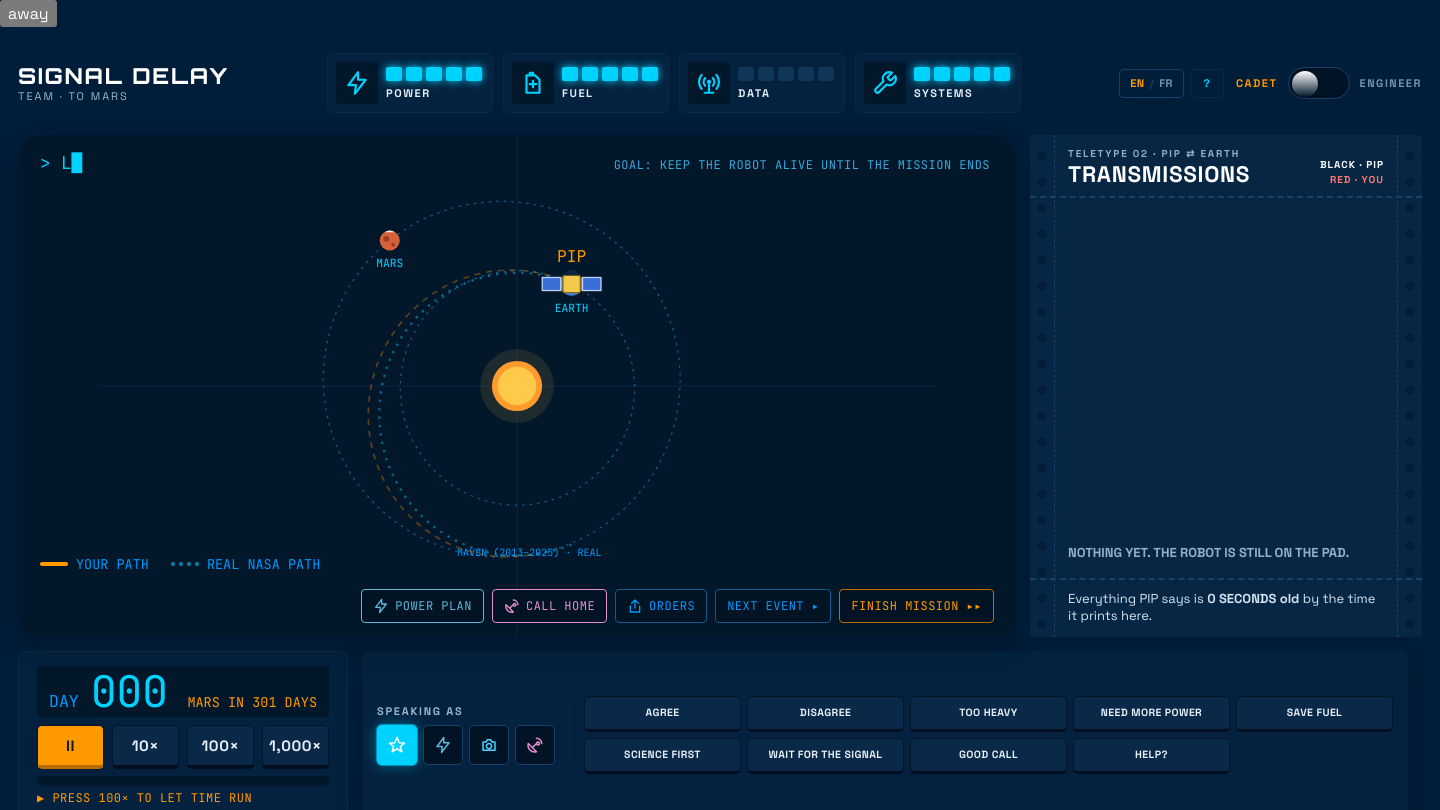
Scenario: Team Fly: orders and messages on the team log › the log replays to the flight on screen: the same orders, at the same times
Click the button "NEXT EVENT ▸" at (773, 606), box [715,589,831,623]
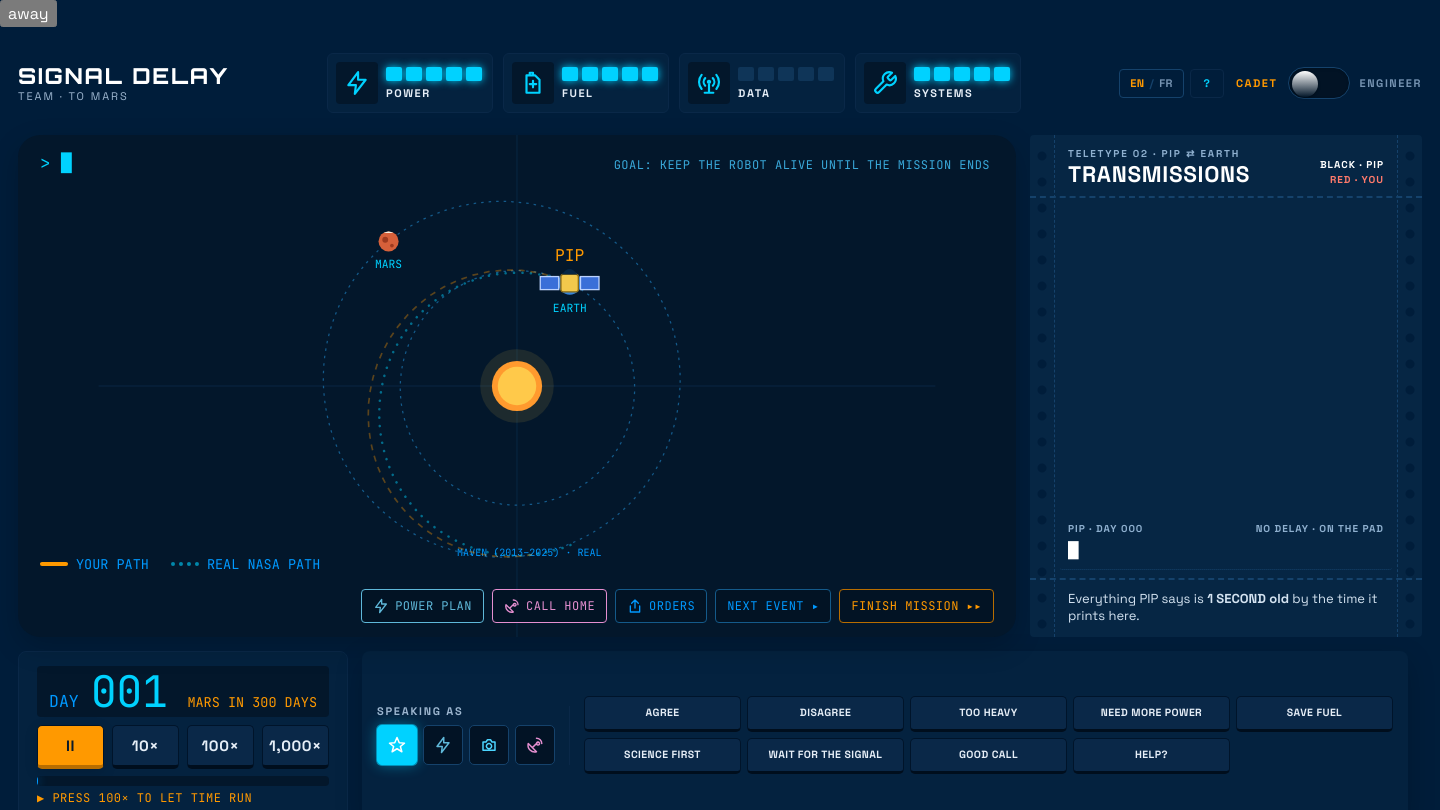
Click the button "NEXT EVENT ▸" at (773, 606), box [715,589,831,623]
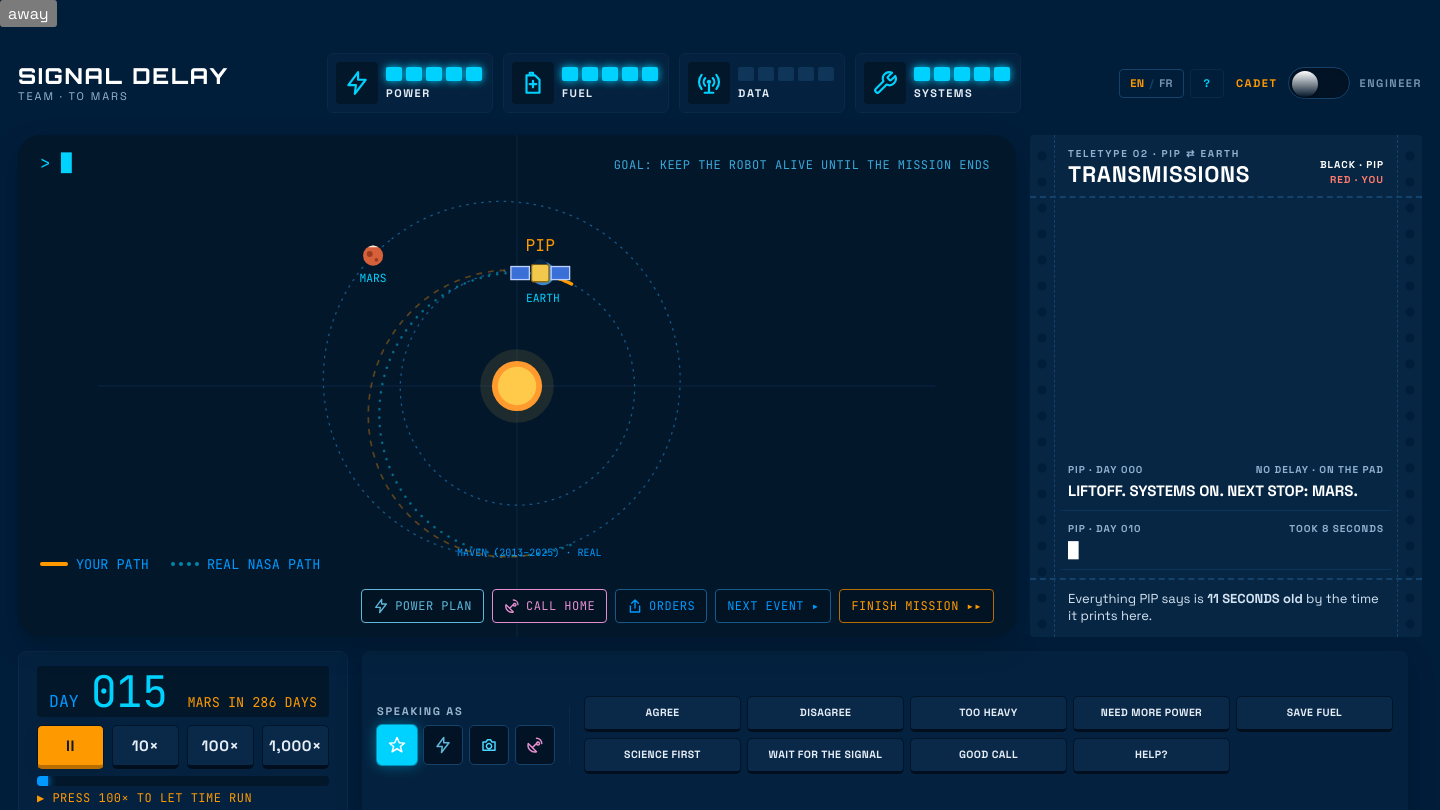
Click the button "NEXT EVENT ▸" at (773, 606), box [715,589,831,623]
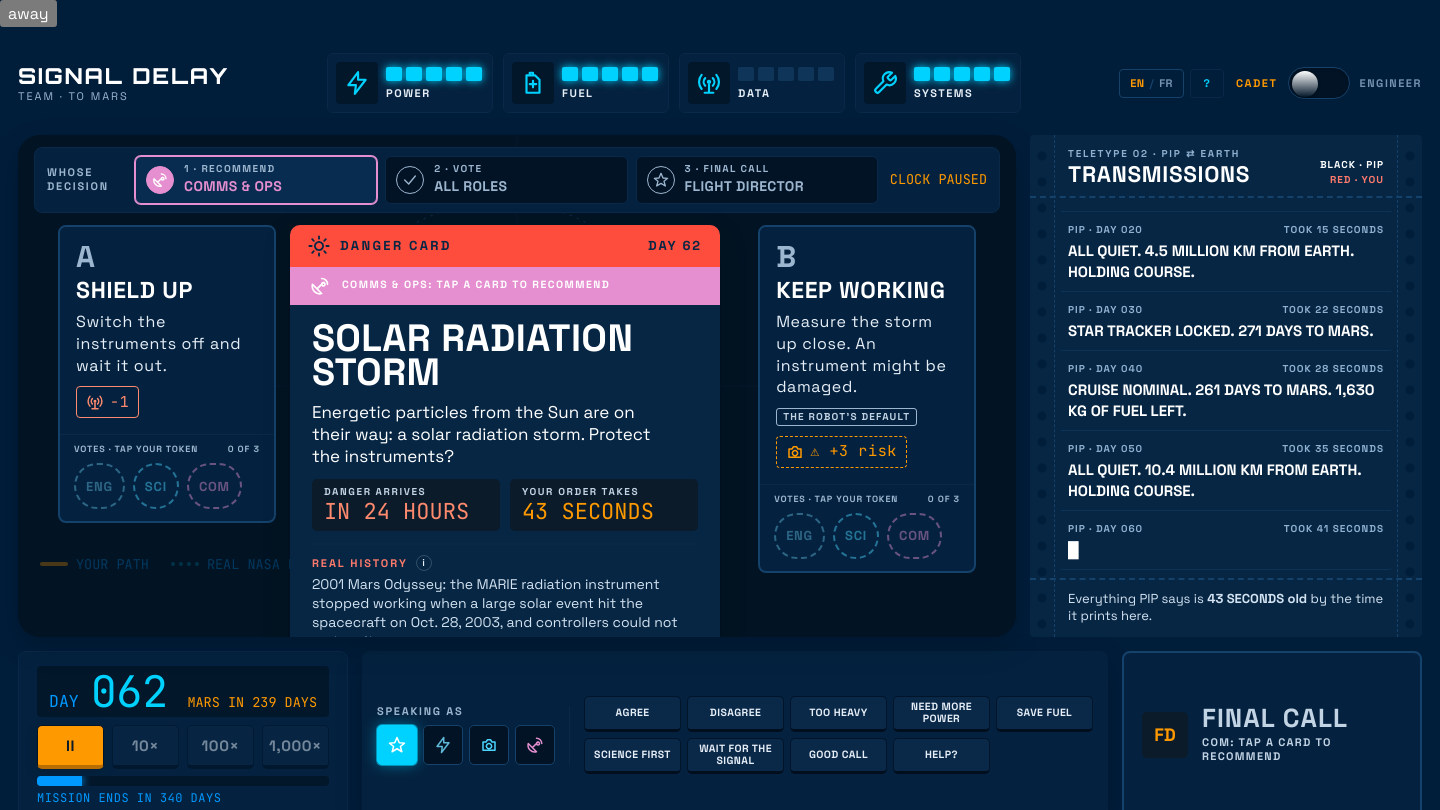
Press ArrowLeft
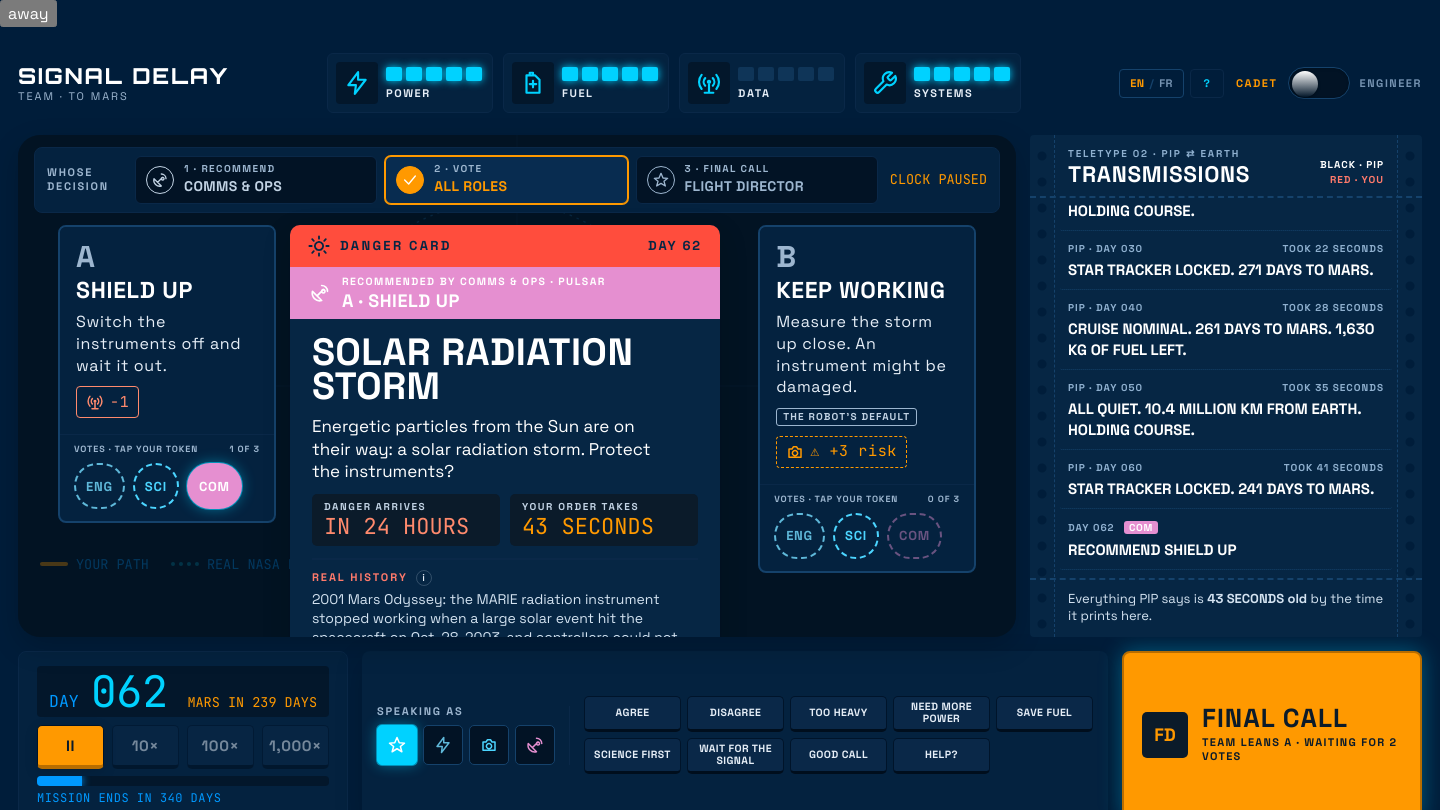
Press ArrowLeft
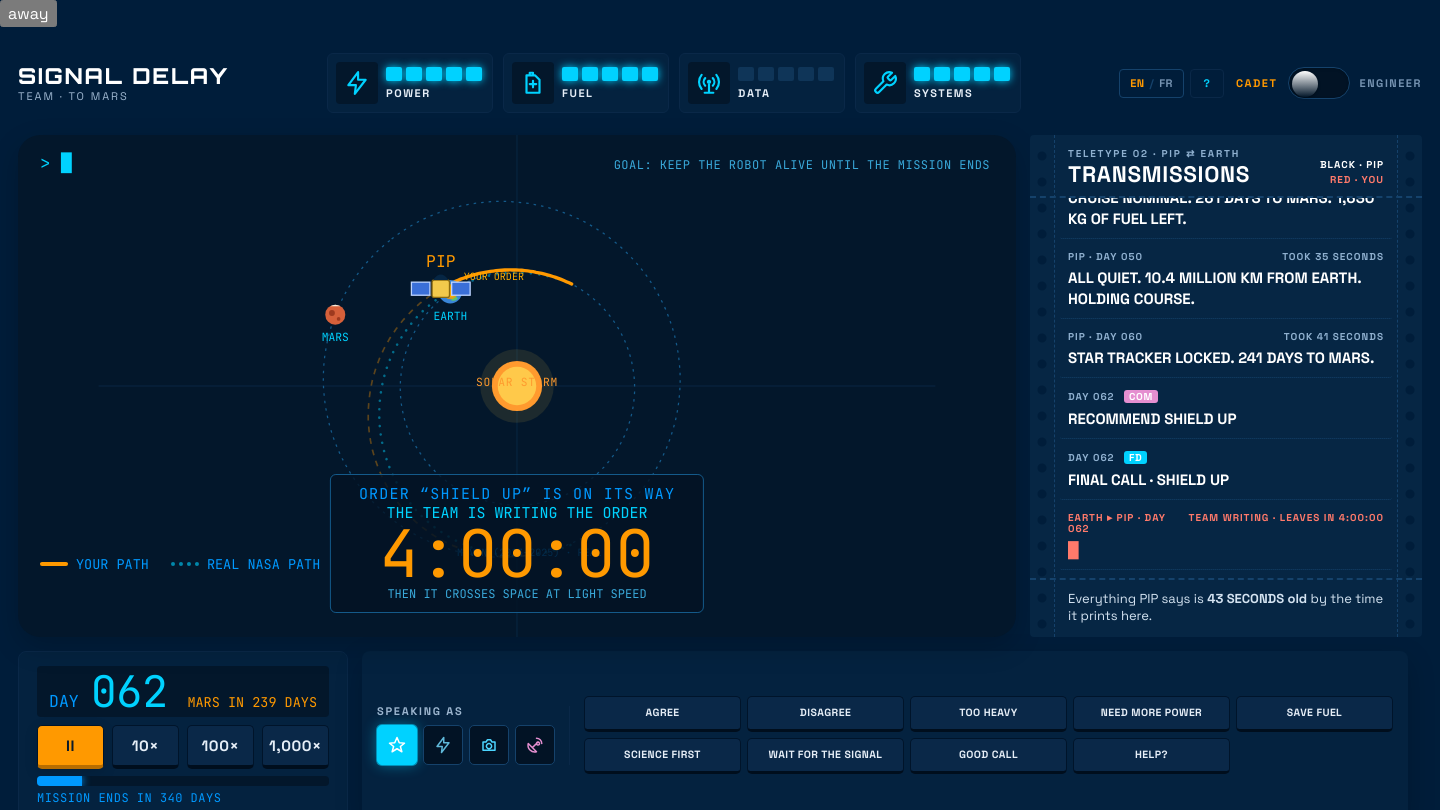
Result: the dialog "DANGER CARD" is gone
